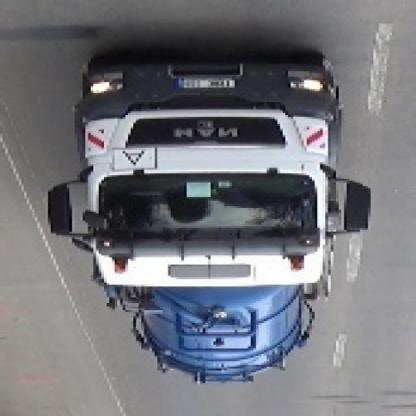truck: (49, 56, 369, 388)
